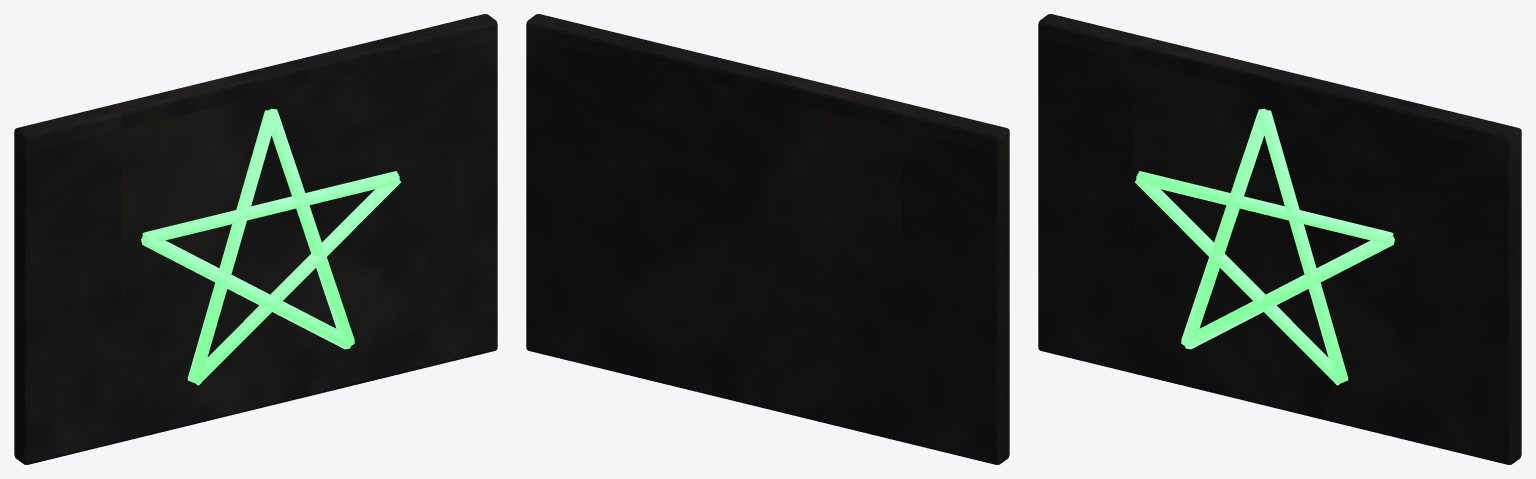
File: U07_neon_sign_v3.glb
The picture shows the model from 3 angles, left to right: view 1: azimuth 30°, elevation 25°; view 2: azimuth 150°, elevation 25°; view 3: azimuth 330°, elevation 25°; orthographic projection.
Parts seen in each view (by area): view 1: U07_neon_sign_v3; view 2: U07_neon_sign_v3; view 3: U07_neon_sign_v3.
Part boxes in pixels (bbox=[...]): U07_neon_sign_v3: bbox=[14, 14, 497, 464]; U07_neon_sign_v3: bbox=[526, 14, 1009, 464]; U07_neon_sign_v3: bbox=[1038, 14, 1521, 464].
Size of the model in its own units: 1 by 0.6667 by 0.0893.
2 materials, 2 textured.
